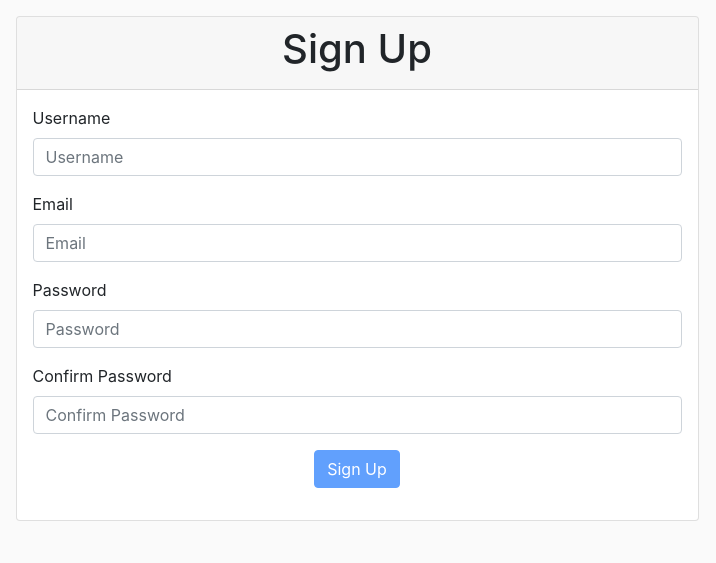
SignUp Page › Interactions › displays Email cannot be null for email
In the field with test id "username": (357, 157) [32, 138, 682, 176], type "user01"
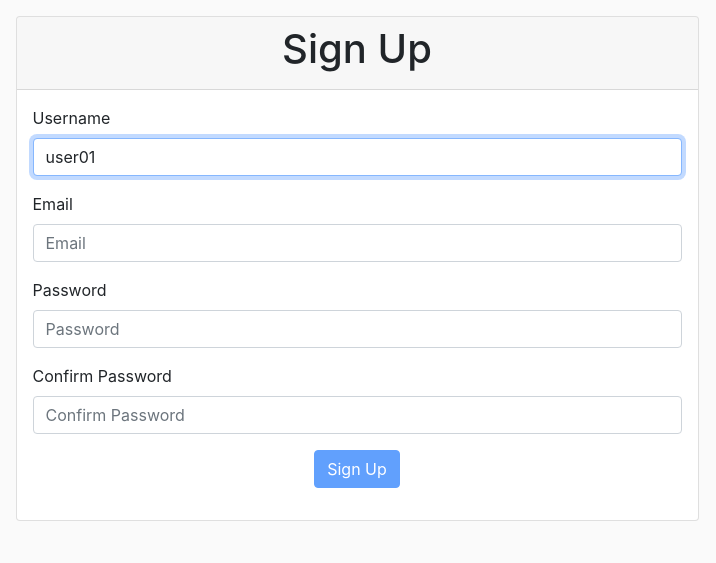
In the password field with test id "password": (357, 329) [32, 310, 682, 348], type "!123456Pa"
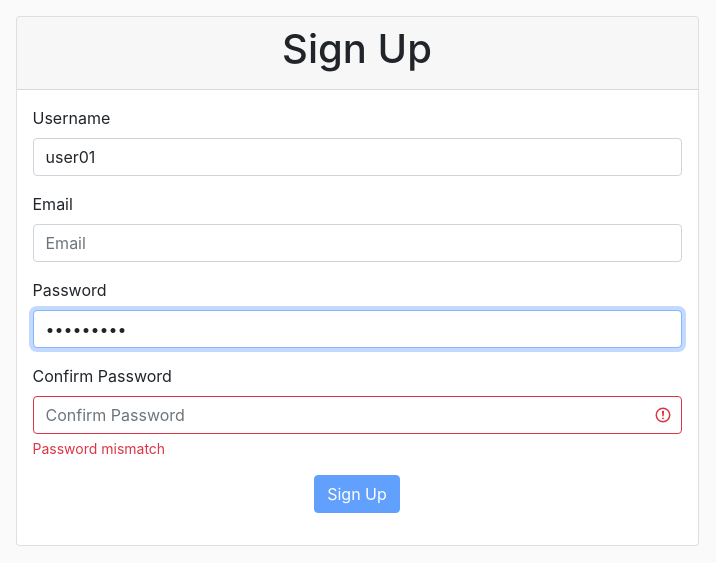
In the password field with test id "confirmPassword": (357, 415) [32, 396, 682, 434], type "!123456Pa"
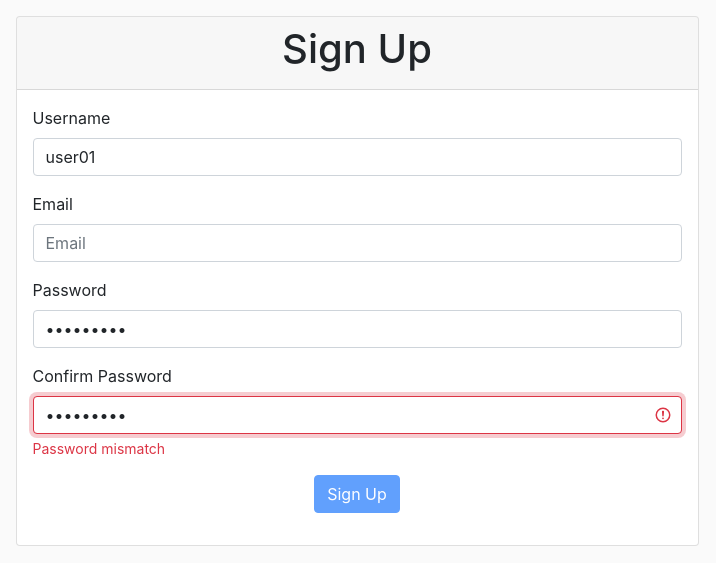
In the field with test id "email": (357, 243) [32, 224, 682, 262], type "user01@domain.com"
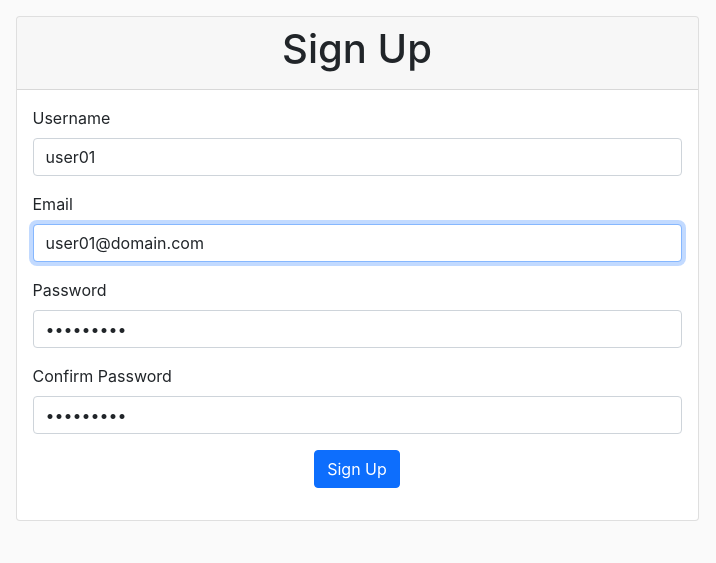
Click the button "Sign Up": (357, 469) [314, 450, 400, 488]
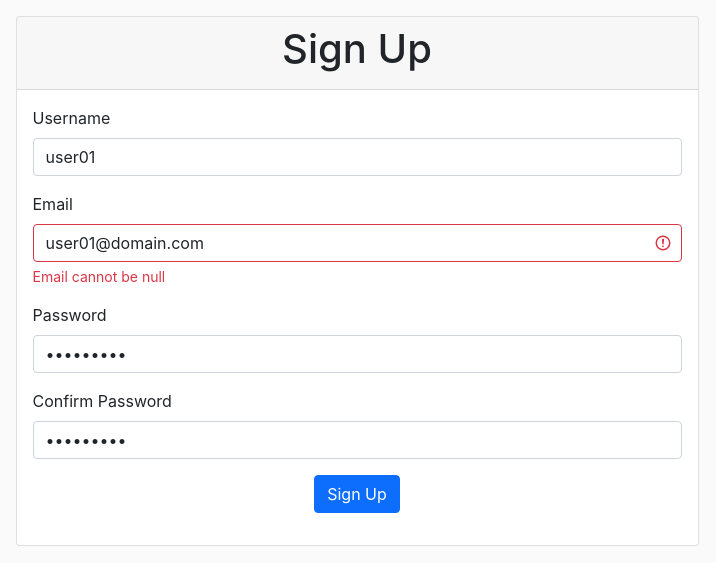
Result: the text "Email cannot be null" is shown at [32, 268, 165, 285]
